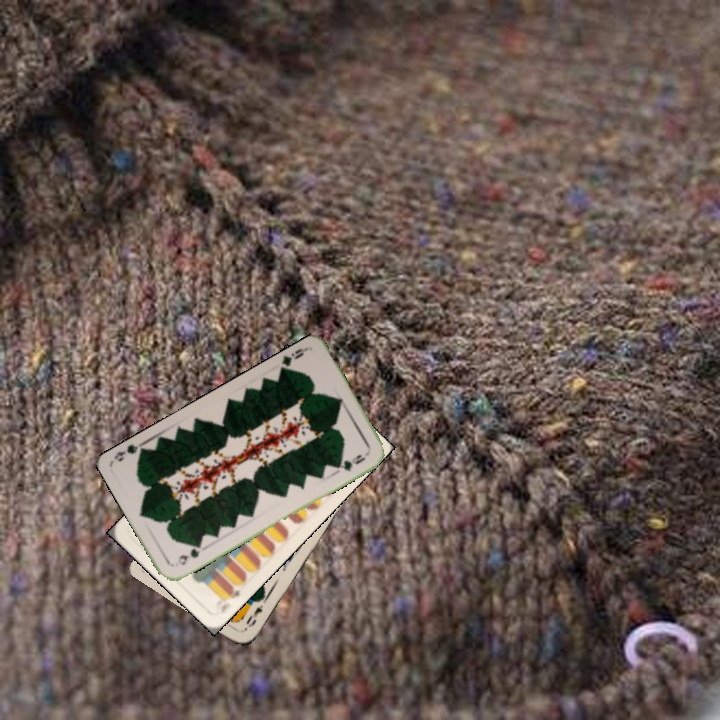E10: (221, 582, 243, 605)
EO: (242, 600, 266, 630)
G9: (276, 343, 311, 375), (173, 544, 203, 568)
